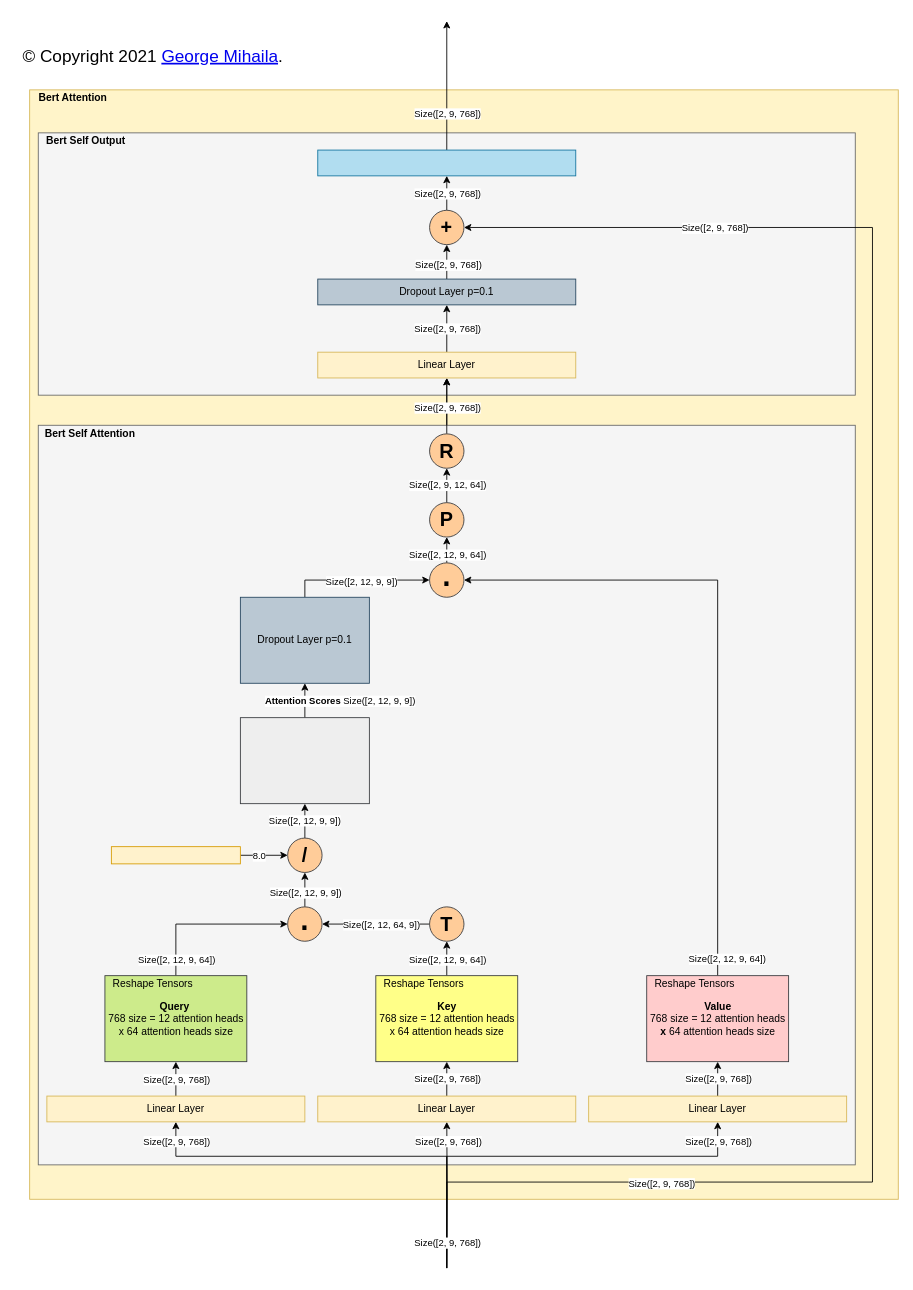
This 913x1290 diagram has some shape labels left out. The centre of each missing label's shape, as x and y in pixels:
Layer Normalization: the point at 446,162
Softmax Layer: the point at 304,760
sqrt(64 attention head size): the point at 175,855
